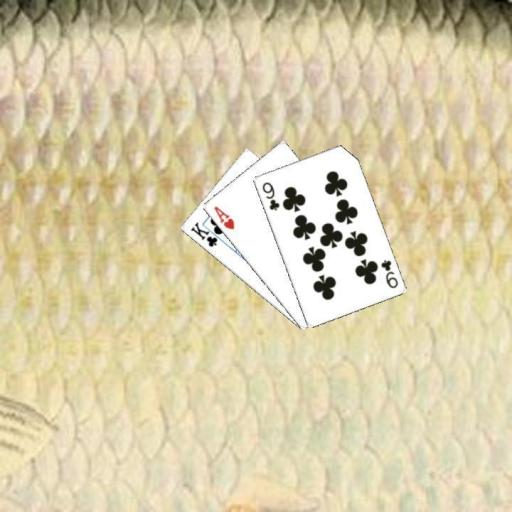card-corner: (187, 219, 225, 248), (259, 178, 281, 212), (210, 203, 236, 231), (378, 256, 399, 289)
